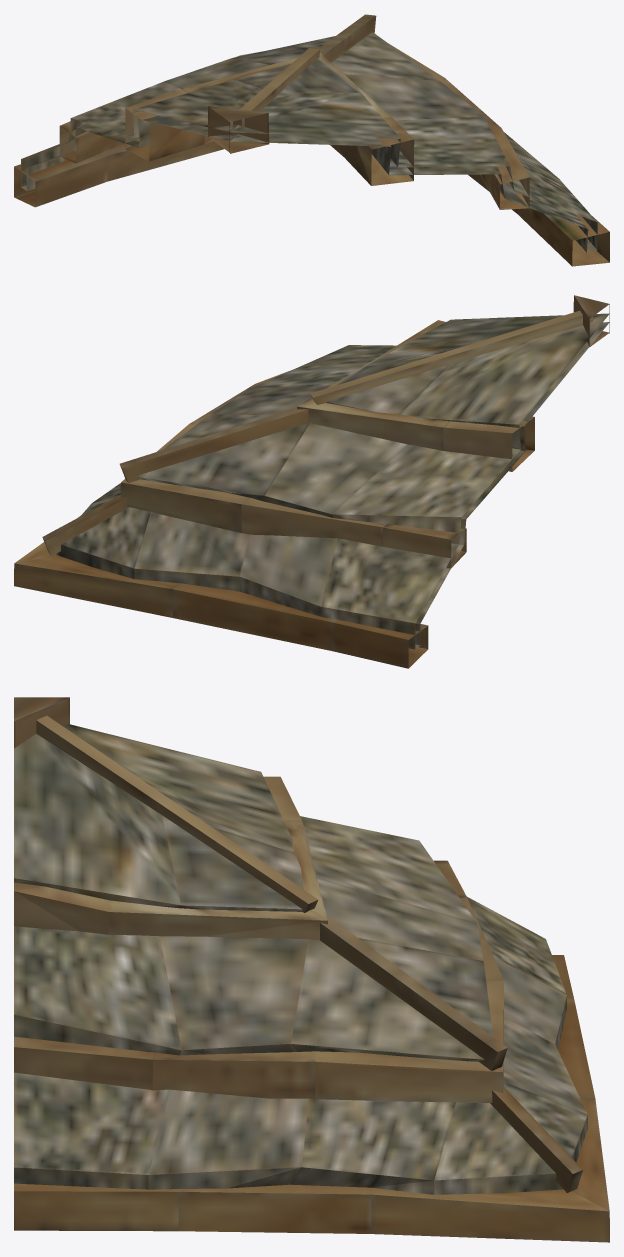
Rendered from roofCorner.obj.
3 views of the same model, one above another, from view 1: azimuth 30°, elevation 25°; view 2: azimuth 150°, elevation 25°; view 3: azimuth 270°, elevation 25° (orthographic). The views are drawn at different scales.
Visible parts, largest first — view 1: roofCorner; view 2: roofCorner; view 3: roofCorner.
Part boxes in pixels (x1,y1,x2,y2): roofCorner: [14, 14, 609, 266]; roofCorner: [14, 295, 609, 668]; roofCorner: [14, 697, 609, 1242].
Bounding box in the file's own units: 1 × 0.55 × 1.
1 material, 1 textured.
